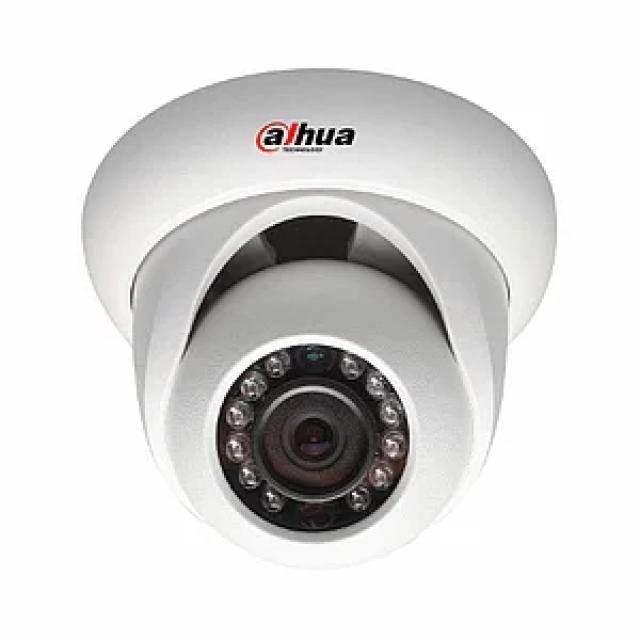hidden camera: (255, 381, 375, 496)
